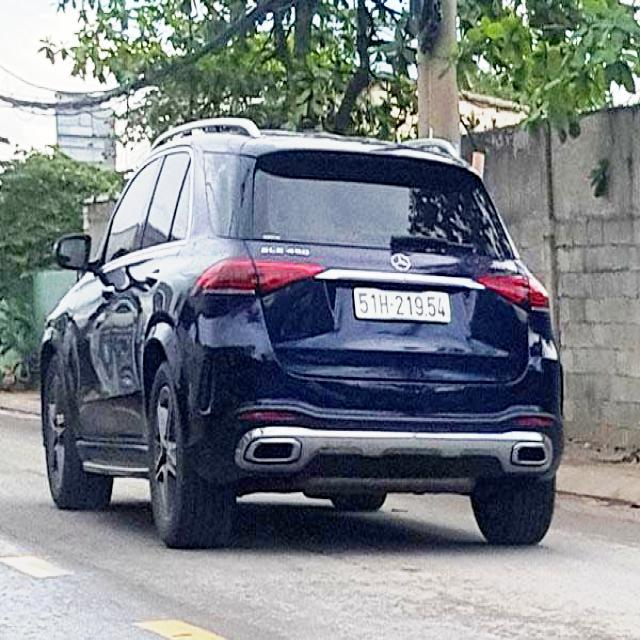license_plate: (356, 290, 451, 320)
